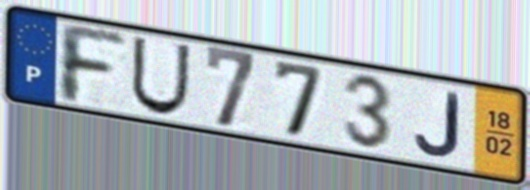3: (341, 72, 396, 153)
7: (203, 42, 259, 133), (270, 58, 330, 142)
F: (54, 19, 130, 108)
J: (412, 88, 464, 160)
U: (128, 33, 194, 117)
